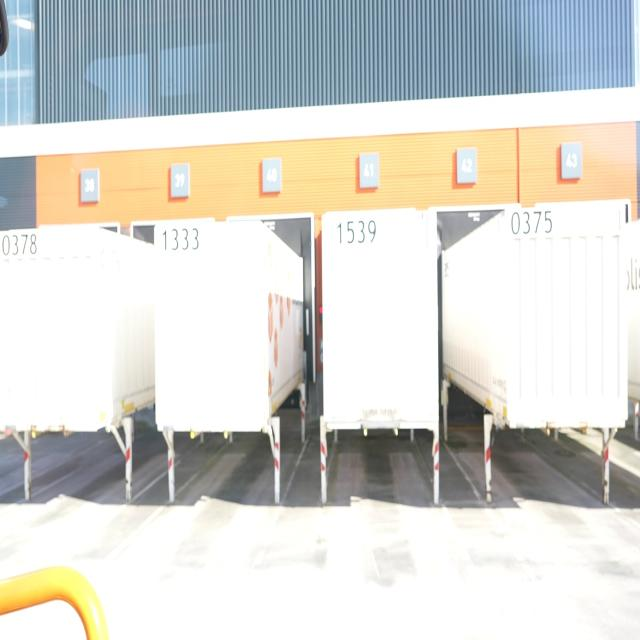Code: (508, 207, 555, 240), (335, 217, 382, 246), (0, 230, 40, 262), (162, 227, 203, 256)
